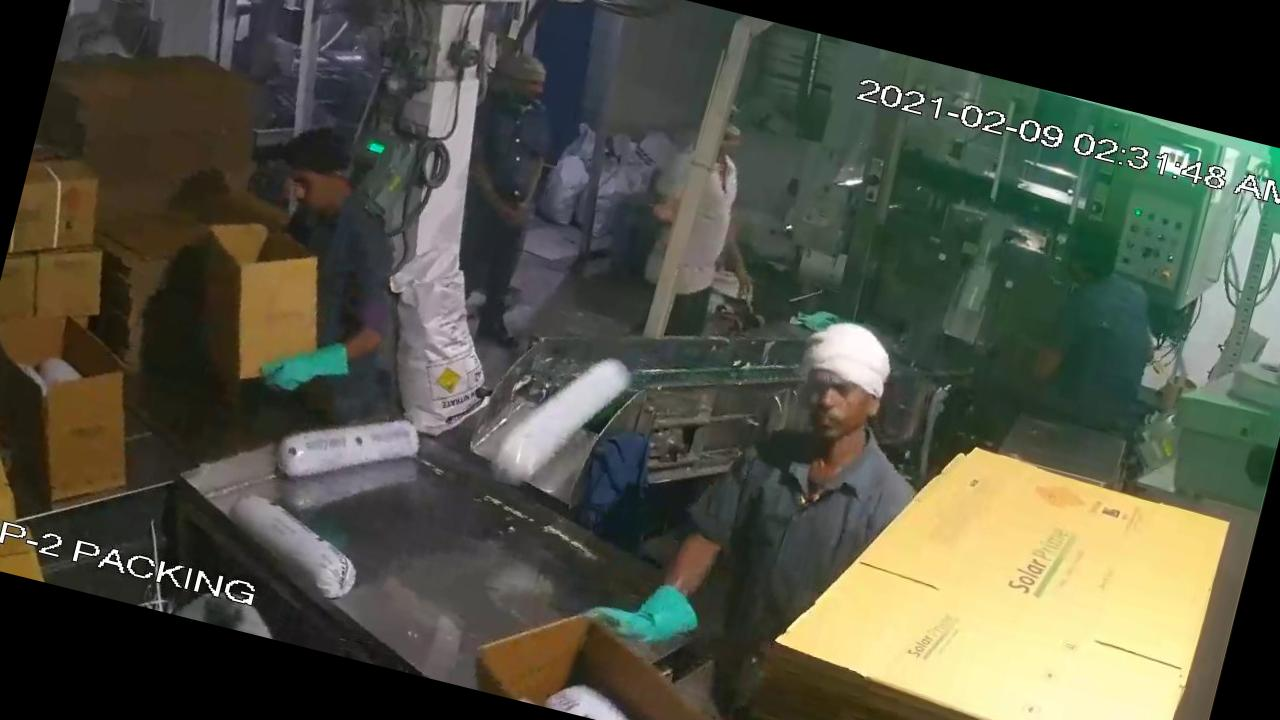Gloves: (548, 549, 734, 684), (242, 312, 372, 424)
No-gloves: (973, 292, 1102, 408), (686, 190, 778, 318), (447, 138, 538, 236), (500, 114, 566, 238)
